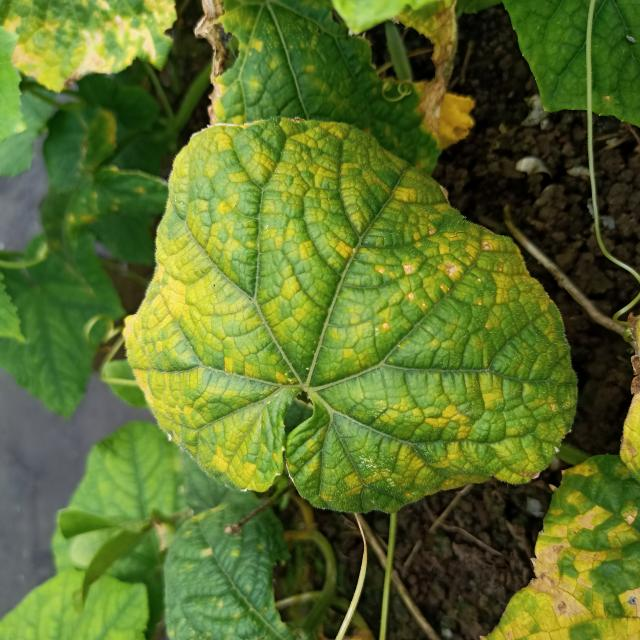disease_cucumber: (123, 124, 570, 492)
